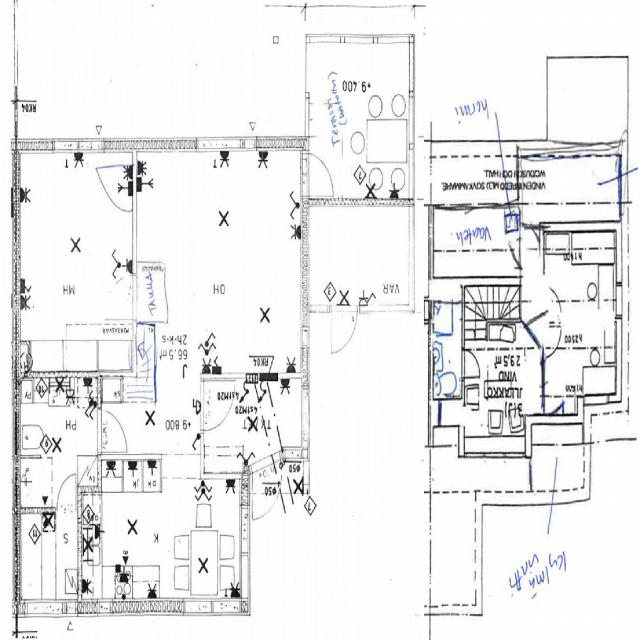door: (251, 450, 290, 518), (523, 301, 558, 354), (200, 382, 235, 429), (300, 153, 336, 196), (104, 164, 137, 210), (97, 409, 129, 451), (332, 304, 356, 351), (56, 477, 76, 513), (498, 239, 522, 268), (523, 220, 539, 256), (548, 390, 564, 424), (462, 350, 481, 377)
